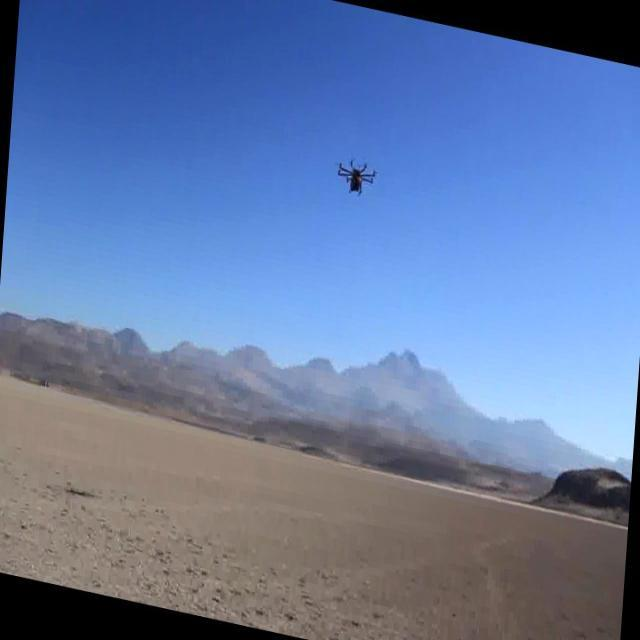drone: (334, 148, 378, 202)
